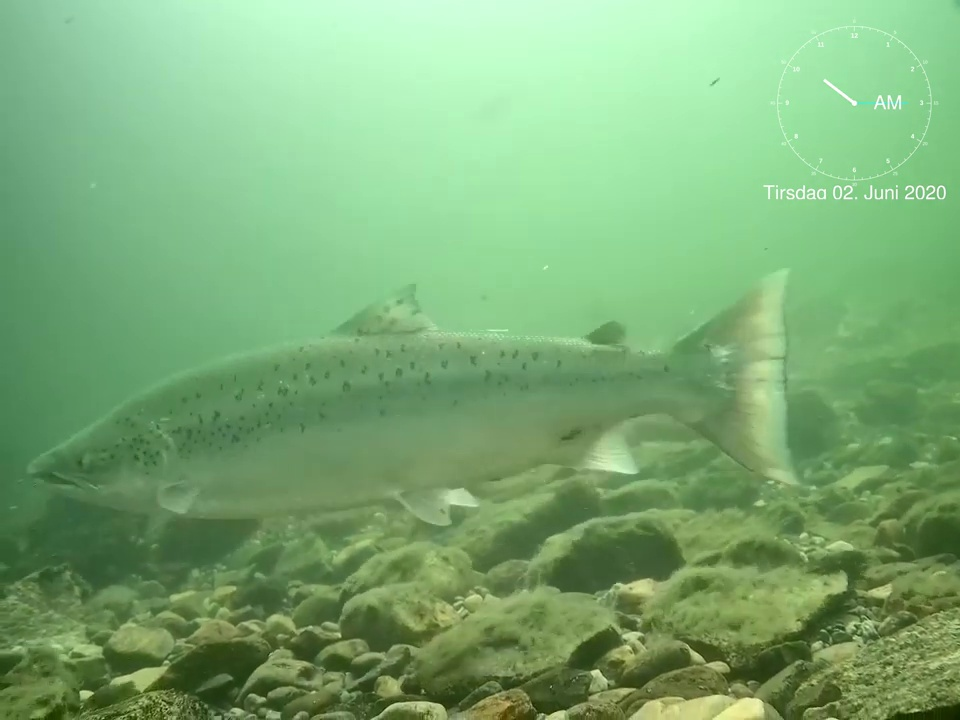salmon: (25, 266, 802, 529)
